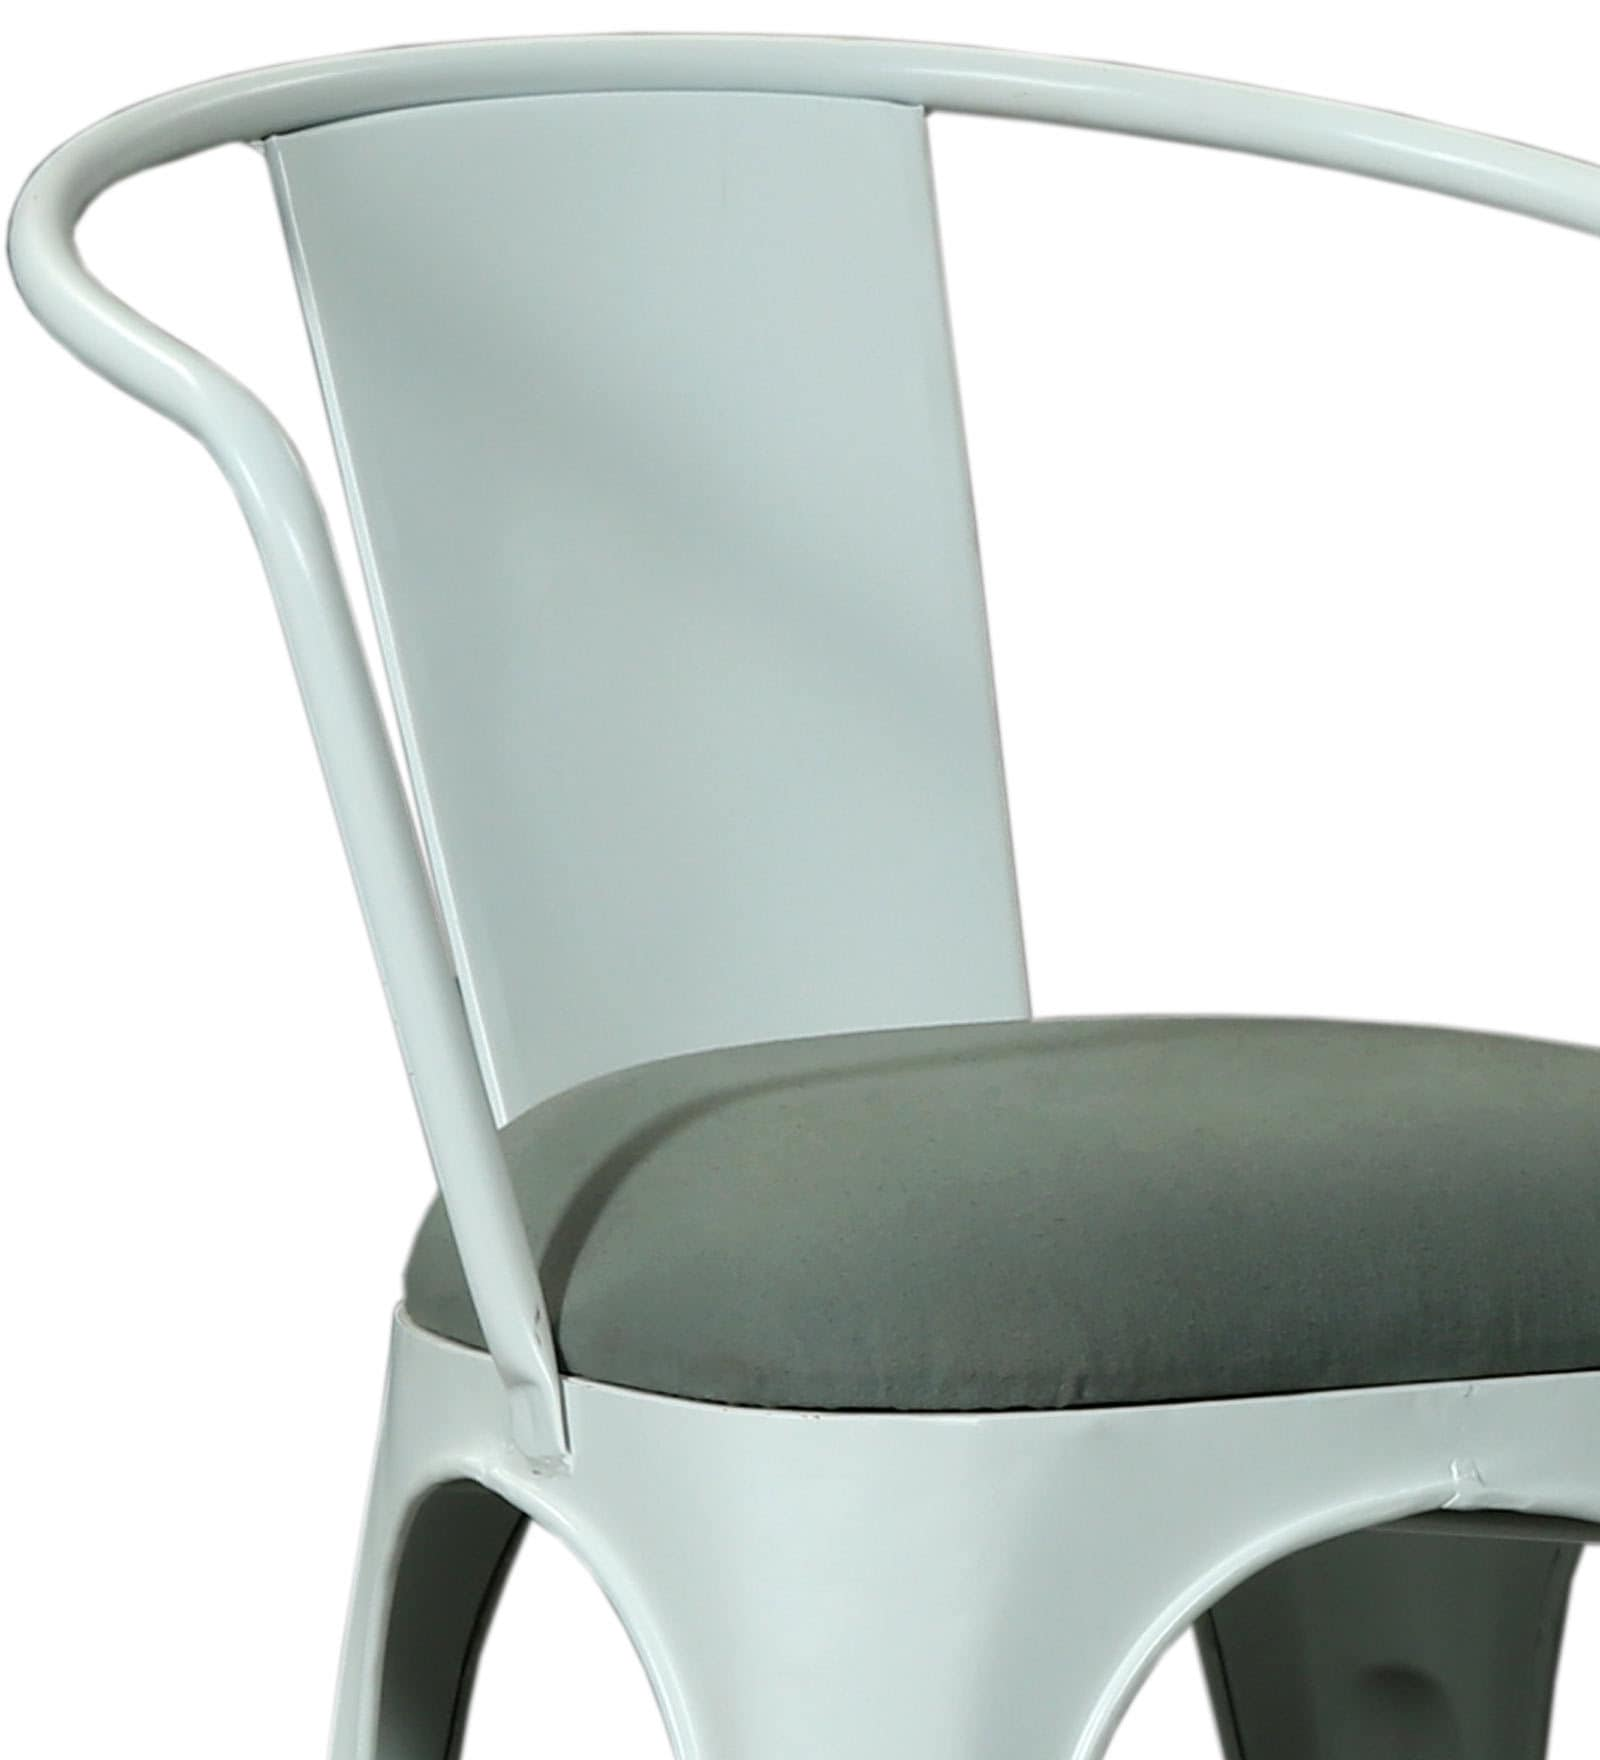Danlou Metal Chair with Cushion in White Colour by Bohemiana: (17, 34, 1600, 1628)
